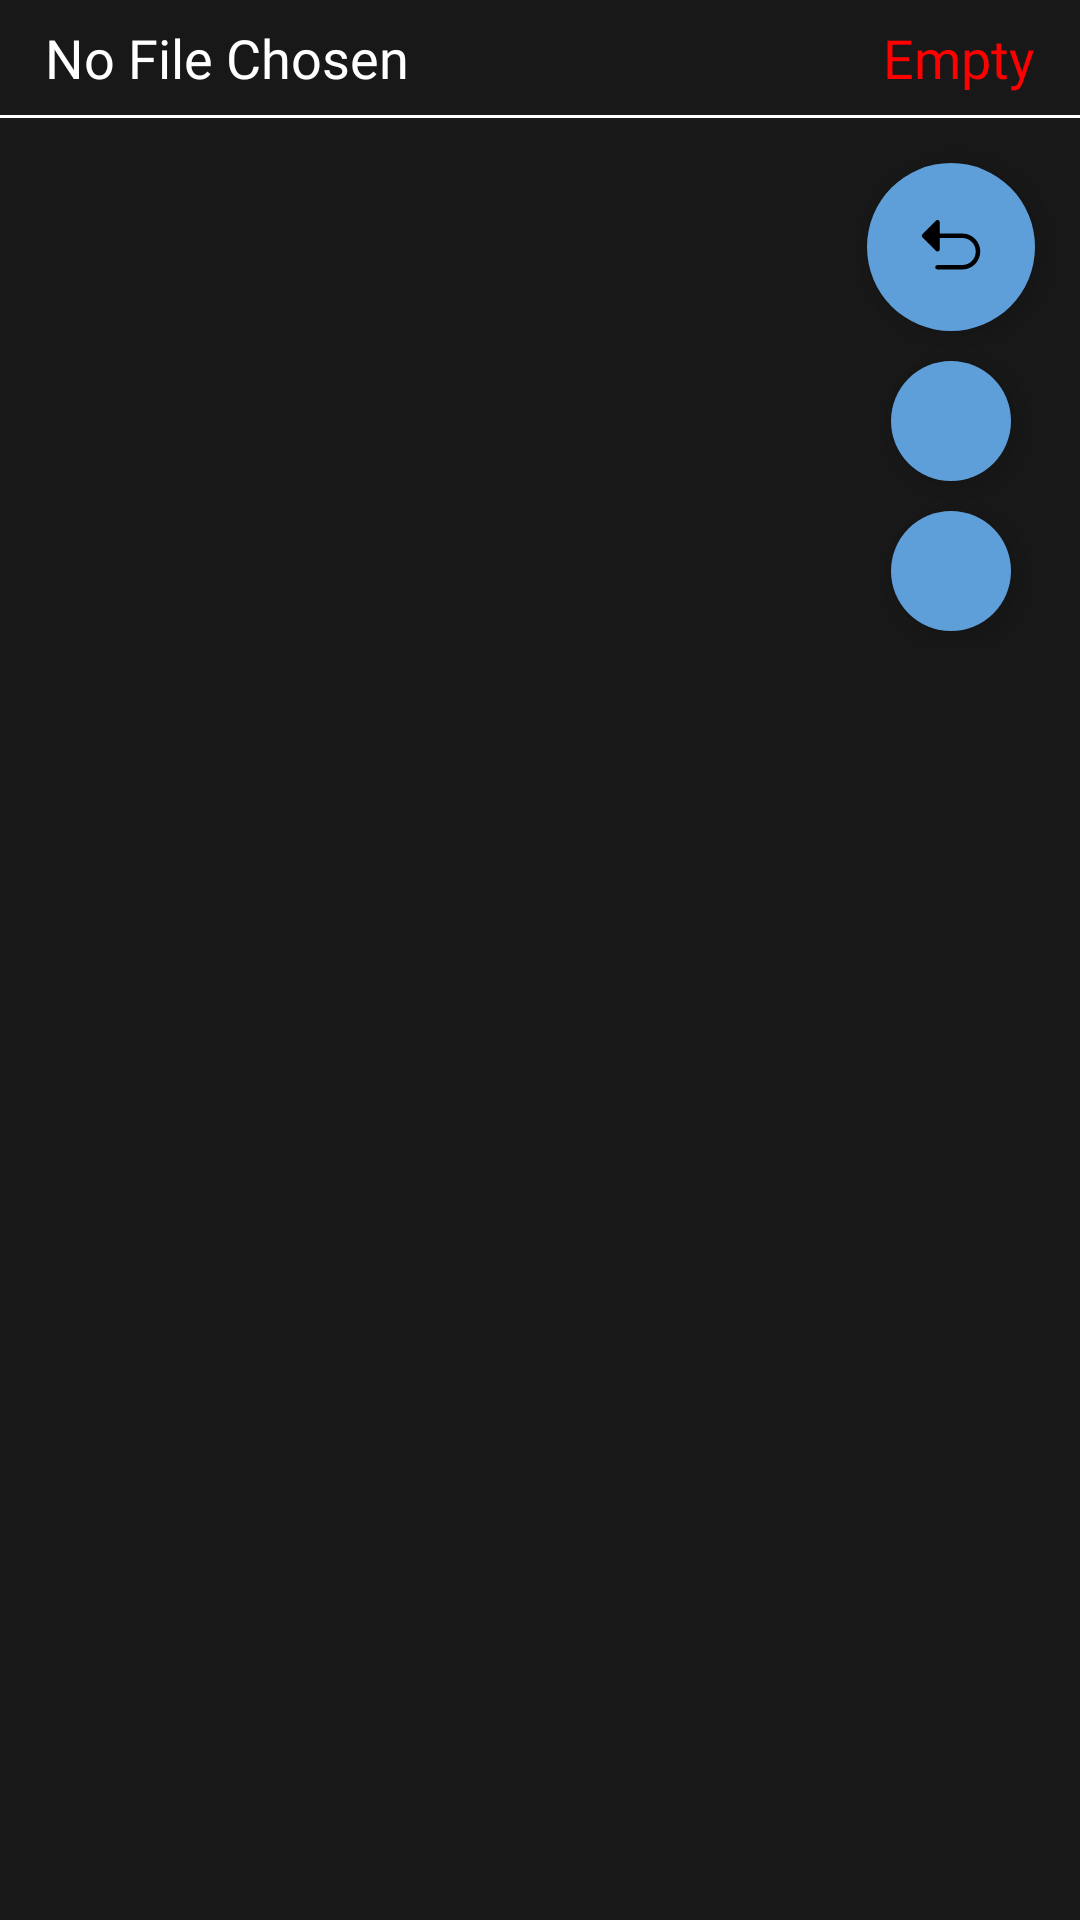

Named icons in this screenshot (1080×1920) and their bounding boxes, (x1, y1, x2, y2):
back: (867, 163, 1035, 331)
